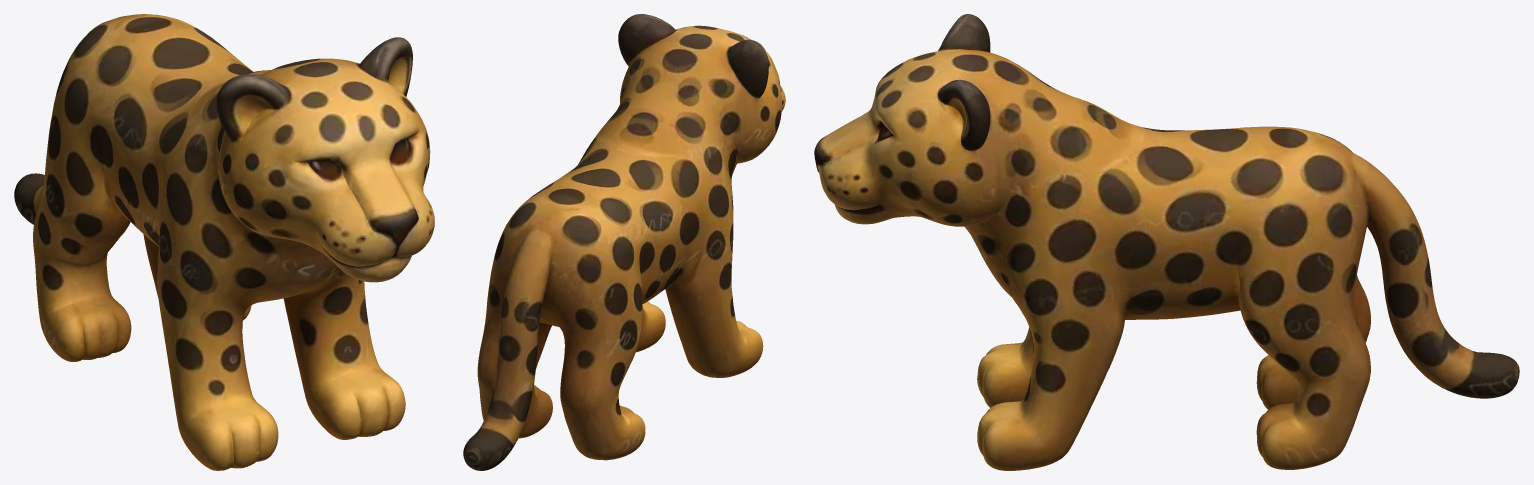
File: cheetah_pbr.glb
The picture shows the model from 3 angles, left to right: view 1: azimuth 30°, elevation 25°; view 2: azimuth 150°, elevation 25°; view 3: azimuth 270°, elevation 25°; orthographic projection. The views are drawn at different scales.
Visible parts, largest first — view 1: model.003; view 2: model.003; view 3: model.003.
Part boxes in pixels (box(x1,y1,x2,y2)): model.003: box(14, 14, 434, 470); model.003: box(463, 14, 785, 470); model.003: box(814, 14, 1519, 470).
Size of the model in its own units: 0.7618 by 1.46 by 2.45.
1 material, 1 textured.
